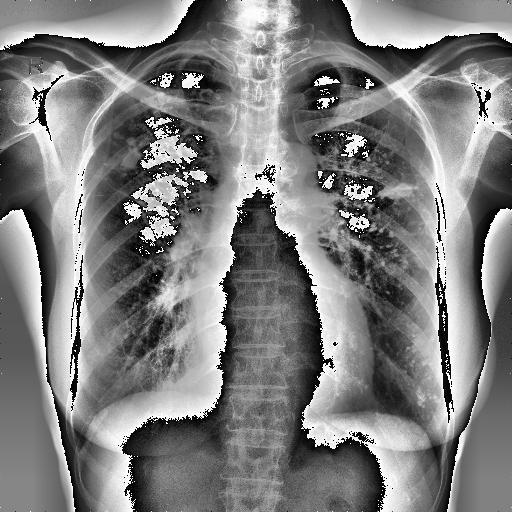13- Pulmonary fibrosis: (83, 75, 226, 227), (85, 72, 224, 215), (310, 144, 436, 280), (320, 129, 436, 275), (97, 83, 213, 215), (339, 142, 439, 294), (399, 320, 445, 412)
2- Calcification: (83, 75, 226, 227), (85, 72, 224, 215), (310, 144, 436, 280), (320, 129, 436, 275), (97, 83, 213, 215), (399, 320, 445, 412), (392, 341, 442, 409), (378, 183, 416, 200)
8- Nodule-Mass: (339, 142, 439, 294)
